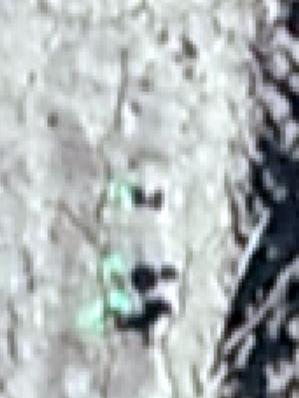cotton: (81, 307, 106, 333), (107, 183, 133, 204), (107, 291, 129, 310), (106, 258, 124, 273)
